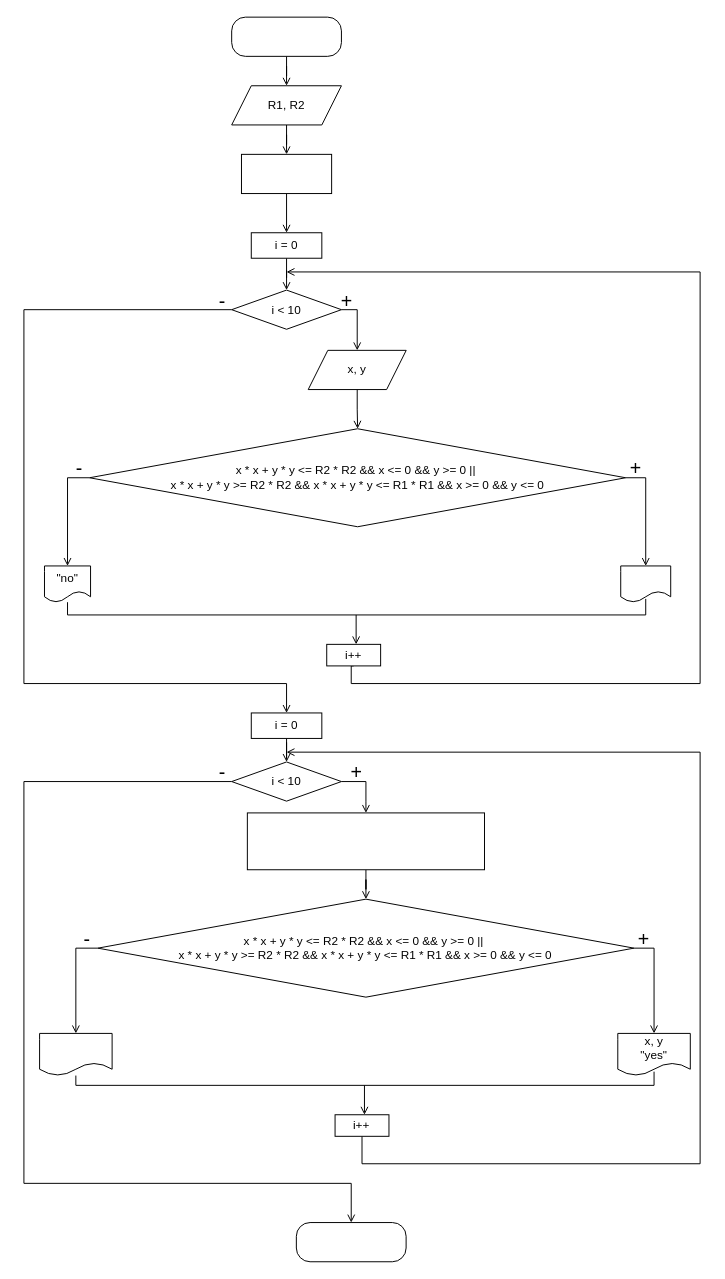
Some shapes in this 725 by 1279 pixel diagram are drawn without their labels. Here are the shapes that lost their labels. From the top down, the centre of each, then its label:
pixel 286 36: Початок
pixel 286 173: srand(time(0))
pixel 645 583: "yes"
pixel 365 841: x = -R1 + rand() * (2 * R1) / RAND_MAX y = -R1 + rand() * (2 * R1) / RAND_MAX
pixel 75 1054: x, y "no"
pixel 350 1242: Кінець
